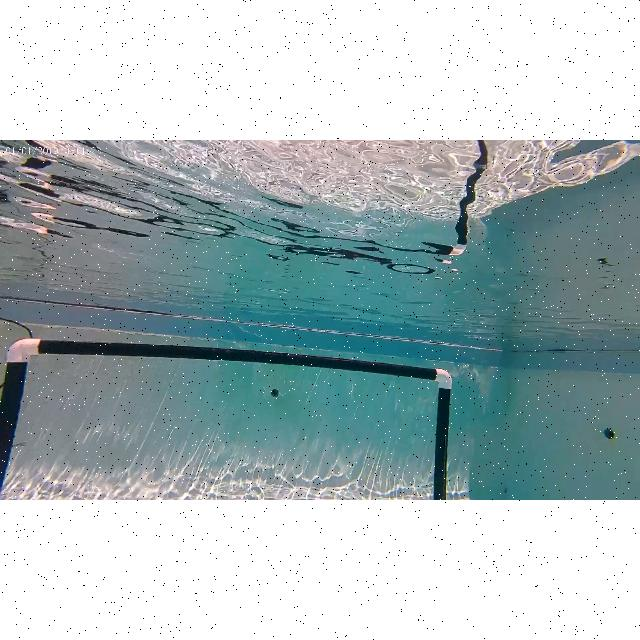prequal gate: (1, 338, 452, 498)
prequal gate leg l: (2, 334, 46, 501)
prequal gate leg r: (428, 365, 454, 497)
